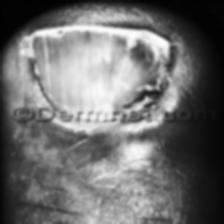Toxin: (115, 73, 186, 110)
